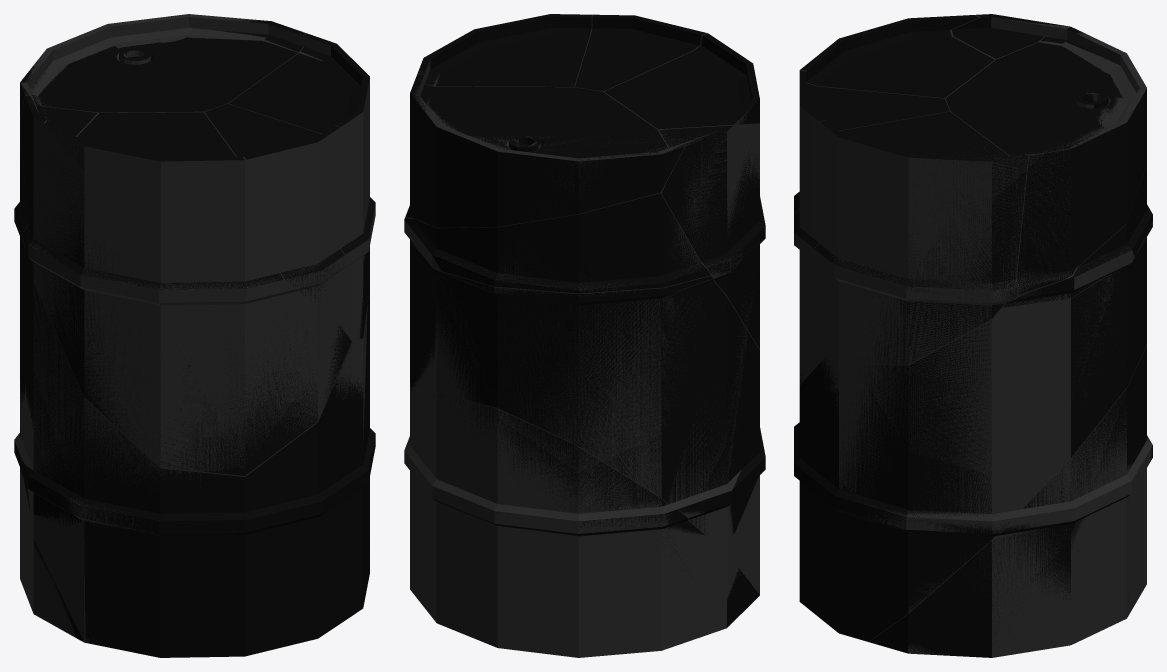
Rendered from Black Barrel.fbx.
3 views of the same model, side by side, from view 1: azimuth 30°, elevation 25°; view 2: azimuth 150°, elevation 25°; view 3: azimuth 270°, elevation 25° (orthographic).
Visible parts, largest first — view 1: Black Barrel, Black Barrel_cell 2, Black Barrel_cell 7, Black Barrel_cell 8, Black Barrel_cell 1, Black Barrel_cell 9, Black Barrel_cell 6, Black Barrel_cell 4, Black Barrel_cell 5; view 2: Black Barrel, Black Barrel_cell 2, Black Barrel_cell 8, Black Barrel_cell 5, Black Barrel_cell 7, Black Barrel_cell 4, Black Barrel_cell 1, Black Barrel_cell 9, Black Barrel_cell 6; view 3: Black Barrel, Black Barrel_cell 2, Black Barrel_cell 8, Black Barrel_cell 1, Black Barrel_cell 4, Black Barrel_cell 9, Black Barrel_cell 6, Black Barrel_cell 5, Black Barrel_cell 7.
Boxes of the visible parts, <box> form: Black Barrel: <box>14,14,375,646</box>; Black Barrel_cell 2: <box>14,215,375,657</box>; Black Barrel_cell 7: <box>20,95,351,475</box>; Black Barrel_cell 8: <box>20,20,305,117</box>; Black Barrel_cell 1: <box>228,33,375,338</box>; Black Barrel_cell 9: <box>44,112,244,168</box>; Black Barrel_cell 6: <box>205,104,344,304</box>; Black Barrel_cell 4: <box>14,428,369,642</box>; Black Barrel_cell 5: <box>14,125,27,241</box>; Black Barrel: <box>404,14,764,657</box>; Black Barrel_cell 2: <box>410,243,765,536</box>; Black Barrel_cell 8: <box>406,74,684,227</box>; Black Barrel_cell 5: <box>404,193,710,293</box>; Black Barrel_cell 7: <box>659,125,765,349</box>; Black Barrel_cell 4: <box>432,393,759,627</box>; Black Barrel_cell 1: <box>417,14,592,145</box>; Black Barrel_cell 9: <box>604,33,759,129</box>; Black Barrel_cell 6: <box>575,14,705,91</box>; Black Barrel: <box>794,15,1152,657</box>; Black Barrel_cell 2: <box>794,224,1152,641</box>; Black Barrel_cell 8: <box>945,22,1146,294</box>; Black Barrel_cell 1: <box>814,111,1028,364</box>; Black Barrel_cell 4: <box>869,346,1152,657</box>; Black Barrel_cell 9: <box>800,15,994,98</box>; Black Barrel_cell 6: <box>794,71,949,301</box>; Black Barrel_cell 5: <box>1002,100,1152,307</box>; Black Barrel_cell 7: <box>794,14,1043,383</box>.
Bounding box in the file's own units: 90.65 × 137 × 89.99.
